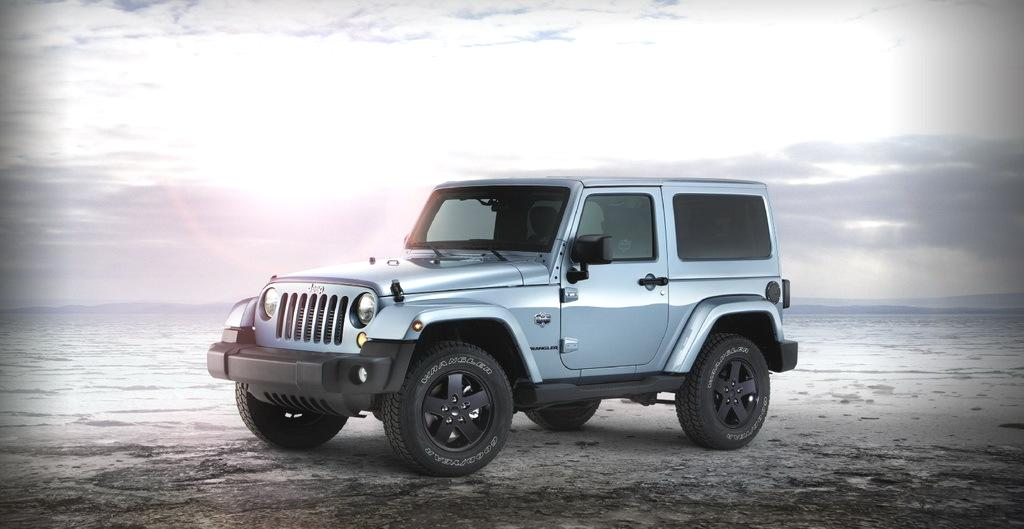jeep: (300, 278, 334, 299)
